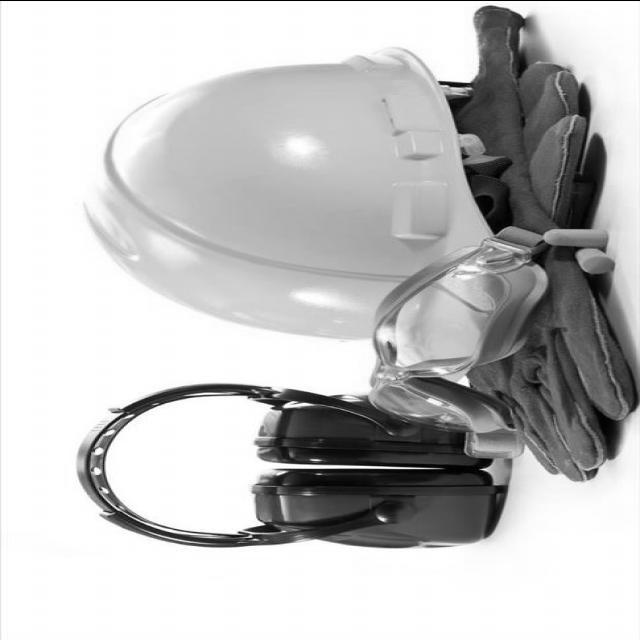safety_helmet: (88, 46, 495, 341)
